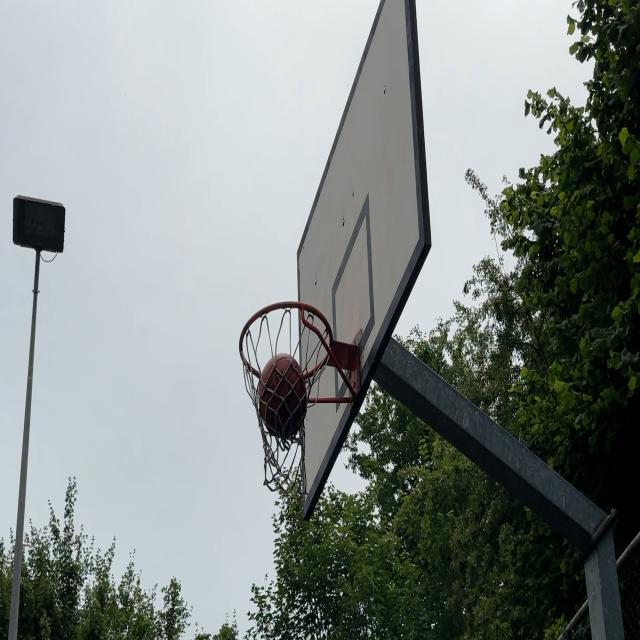Goal: (258, 352, 308, 437)
